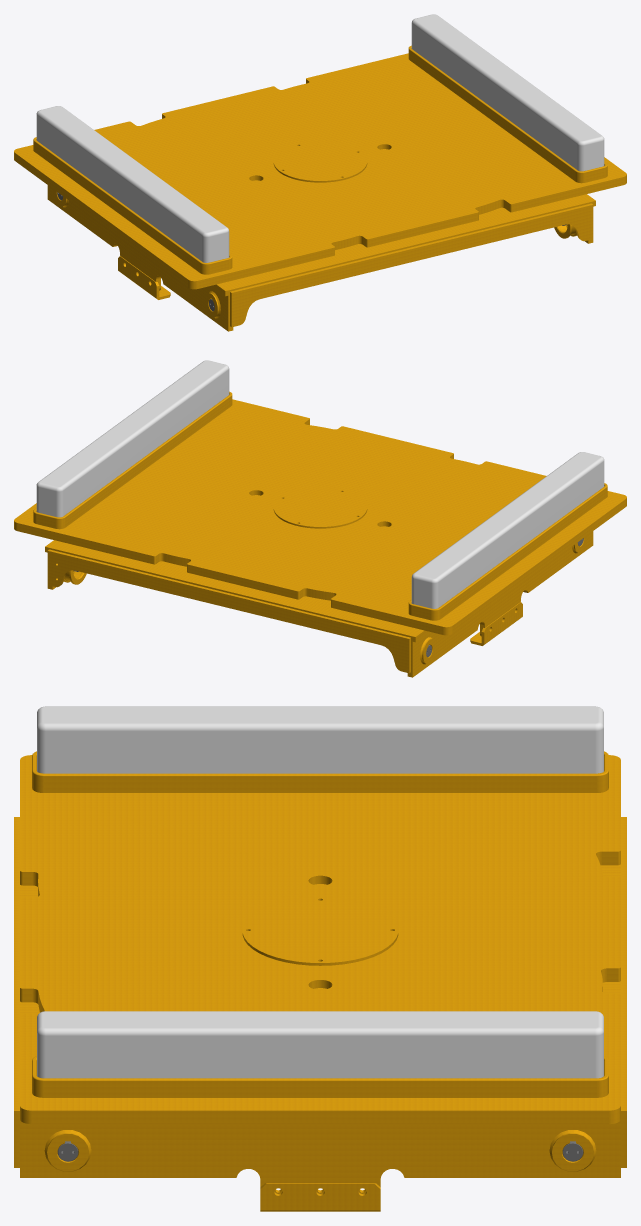
The model's file is transportCar.fbx.
3 renders of one model, top to bottom at view 1: azimuth 30°, elevation 25°; view 2: azimuth 150°, elevation 25°; view 3: azimuth 270°, elevation 25°, orthographic. The views are drawn at different scales.
Visible parts, largest first — view 1: 实体1.001, NONE, 实体1_3.001, 实体1_4.001, 实体1_13.001, 实体1_1.001; view 2: 实体1.001, NONE, 实体1_3.001, 实体1_4.001, 实体1_13.001, 实体1_1.001; view 3: 实体1.001, 实体1_3.001, 实体1_4.001, NONE, 实体1_13.001, 实体1_2.001.
Part boxes in pixels (x1,y1,x2,y2): 实体1.001: [14, 45, 626, 289]; NONE: [47, 185, 595, 331]; 实体1_3.001: [411, 14, 604, 171]; 实体1_4.001: [36, 106, 229, 262]; 实体1_13.001: [273, 141, 367, 182]; 实体1_1.001: [118, 256, 170, 299]; 实体1.001: [14, 391, 626, 635]; NONE: [45, 531, 593, 677]; 实体1_3.001: [36, 360, 229, 517]; 实体1_4.001: [411, 452, 604, 608]; 实体1_13.001: [273, 487, 367, 528]; 实体1_1.001: [470, 602, 522, 645]; 实体1.001: [20, 751, 620, 1124]; 实体1_3.001: [37, 1011, 603, 1078]; 实体1_4.001: [37, 706, 603, 773]; NONE: [14, 817, 626, 1193]; 实体1_13.001: [242, 897, 398, 965]; 实体1_2.001: [260, 1183, 380, 1211].
Size of the model in its own units: 140 by 36.1 by 102.
Materials: 3 (1 with a texture image).
